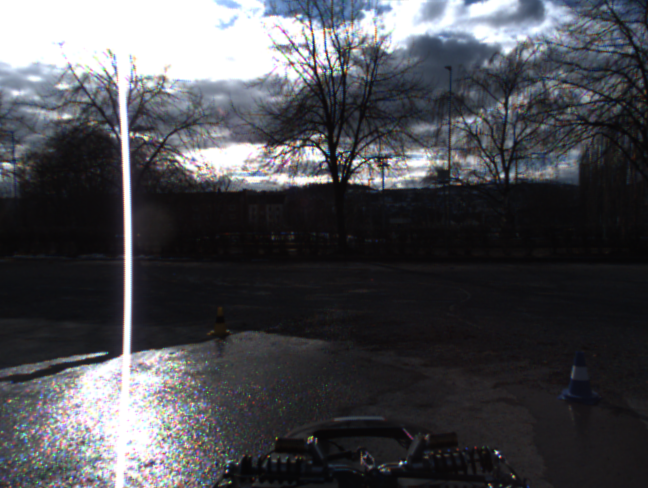cone-small-blue: (558, 350, 601, 402)
cone-small-yellow: (208, 307, 231, 335)
